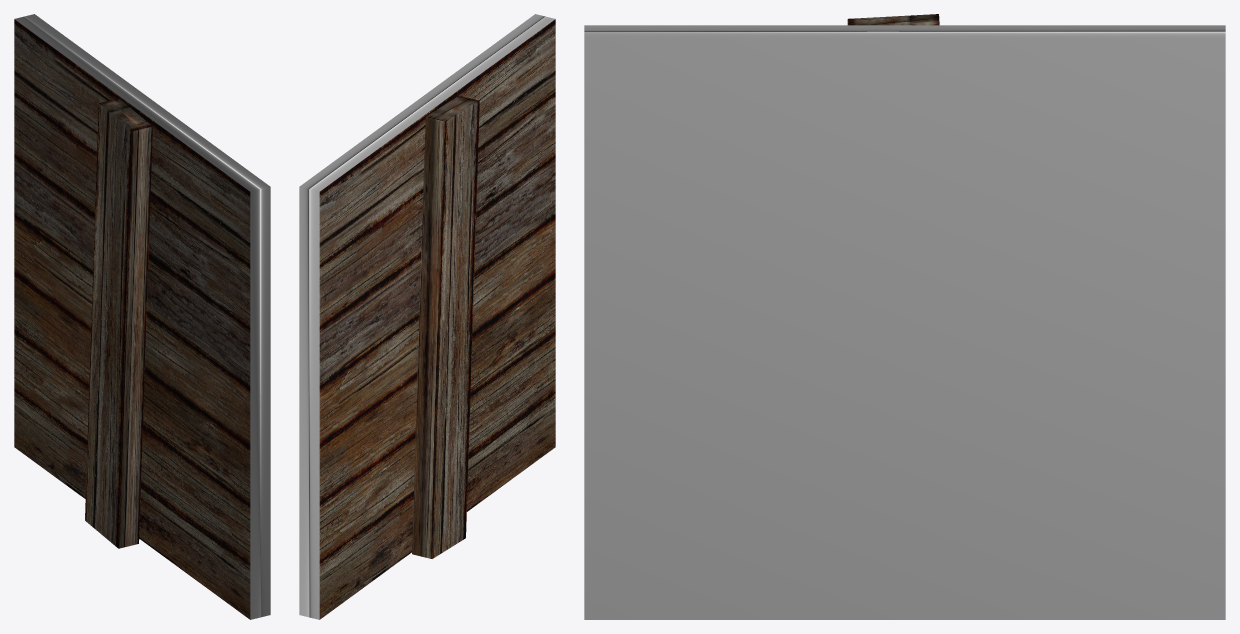
The model's file is planks.fbx.
The picture shows the model from 3 angles, left to right: view 1: azimuth 30°, elevation 25°; view 2: azimuth 150°, elevation 25°; view 3: azimuth 270°, elevation 25°; orthographic projection. The views are drawn at different scales.
Parts seen in each view (by area): view 1: Cube, Cube_001; view 2: Cube, Cube_001; view 3: Cube, Cube_001.
Part boxes in pixels (x1,y1,x2,y2): Cube: (14, 14, 270, 619); Cube_001: (85, 98, 152, 548); Cube: (299, 14, 555, 619); Cube_001: (412, 95, 479, 558); Cube: (584, 25, 1225, 619); Cube_001: (847, 14, 939, 25).
Size of the model in its own units: 0.405 by 4.05 by 4.
